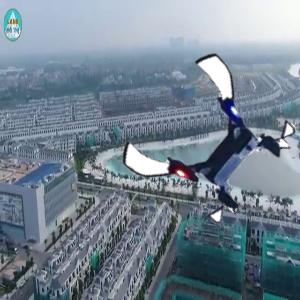drone: (134, 70, 283, 219)
